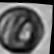correct: (0, 0, 47, 54)
